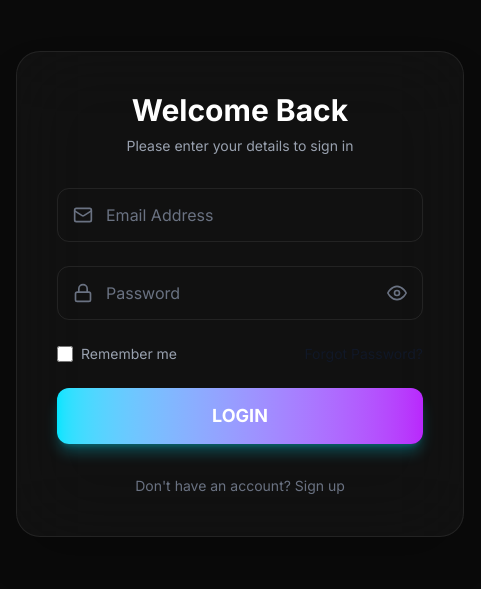
Test: LoginForm › shows generic error on network failure
This screenshot has width=481, height=589.
In the field with placeholder "Email Address": (240, 215) [57, 188, 423, 242], type "test@example.com"
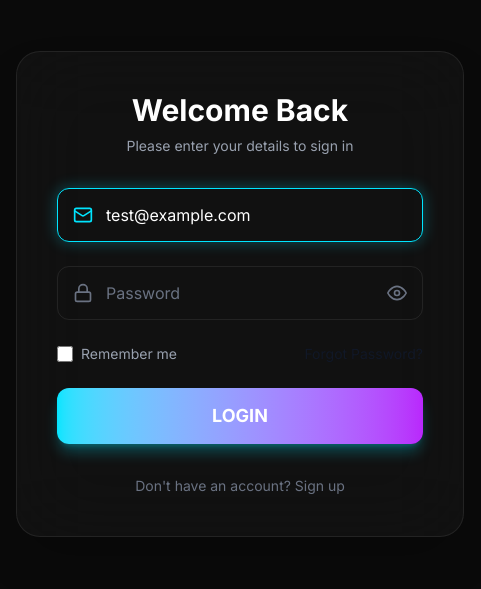
In the password field with placeholder "Password": (240, 293) [57, 266, 423, 320], type "password123"
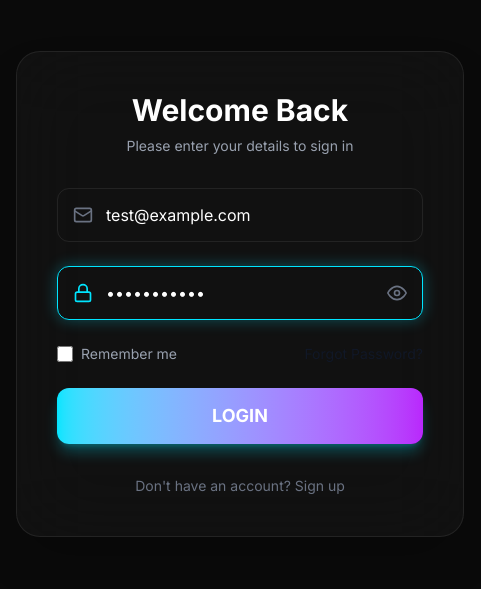
Click the button "LOGIN": click(240, 416) [57, 388, 423, 444]
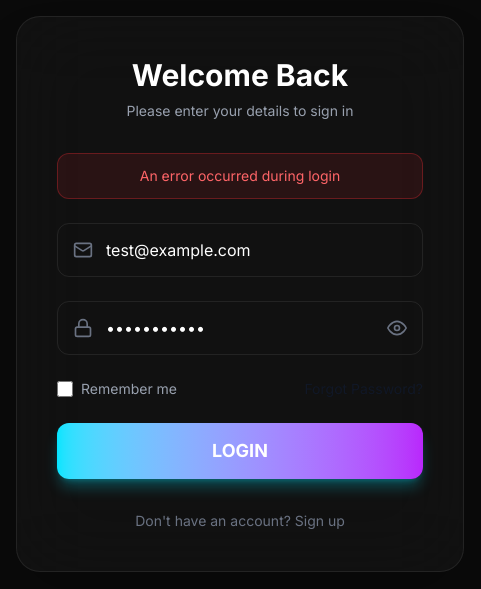
Expected: the text "An error occurred during login" is shown, [57, 153, 423, 199]
